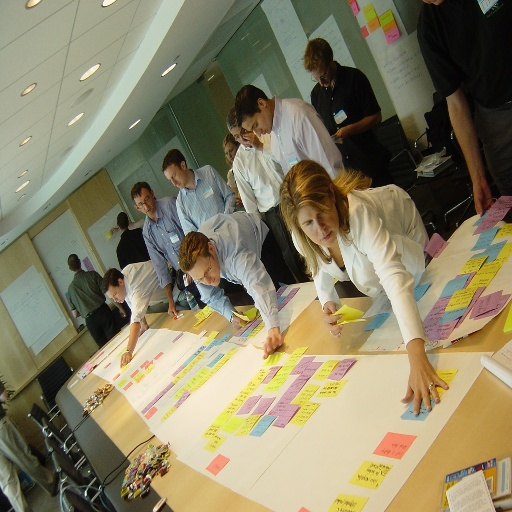hand: (398, 347, 449, 414), (472, 179, 493, 218), (322, 302, 343, 339), (262, 328, 282, 360), (241, 134, 259, 150), (230, 310, 245, 329), (331, 126, 346, 144), (166, 299, 178, 318), (118, 352, 131, 368), (139, 323, 149, 336), (234, 197, 242, 210), (118, 307, 125, 318), (186, 275, 192, 285)
